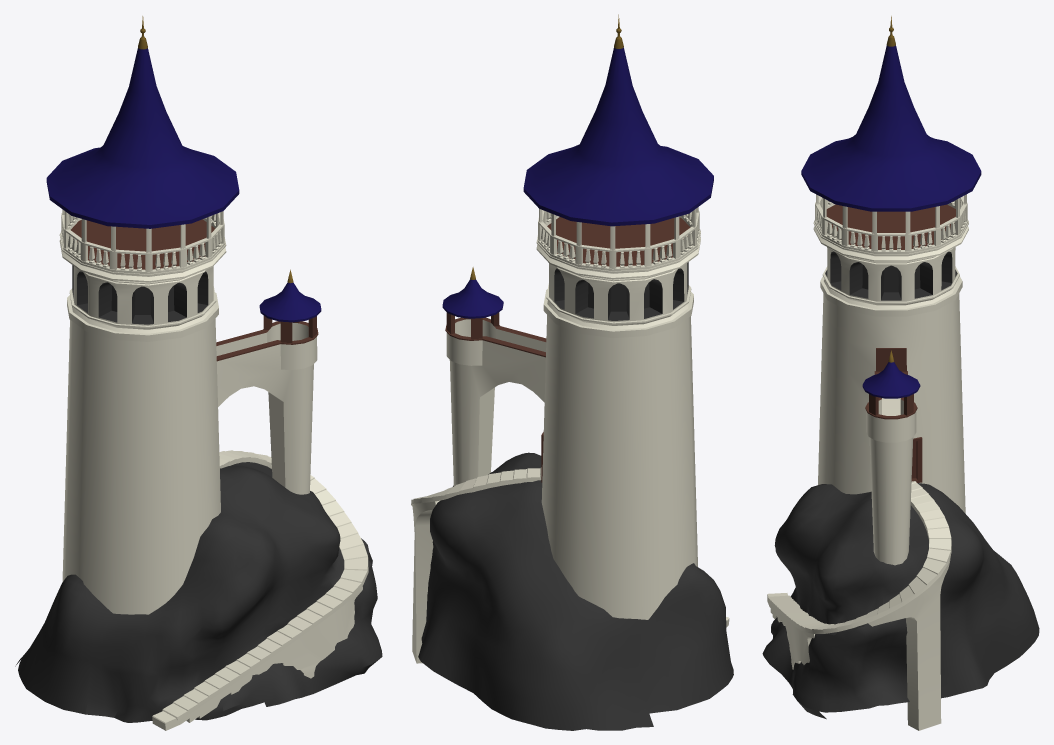
Rendered from WizardTower_Mesh.fbx.
The picture shows the model from 3 angles, left to right: view 1: azimuth 30°, elevation 25°; view 2: azimuth 150°, elevation 25°; view 3: azimuth 270°, elevation 25°; orthographic projection. The views are drawn at different scales.
Visible parts, largest first — view 1: Wizard Tower; view 2: Wizard Tower; view 3: Wizard Tower.
Boxes of the visible parts, left/top/right/bottom form: Wizard Tower: left=15, top=16, right=382, bottom=730; Wizard Tower: left=411, top=14, right=733, bottom=730; Wizard Tower: left=762, top=16, right=1039, bottom=730.
Bounding box in the file's own units: 505 × 1050 × 419.
